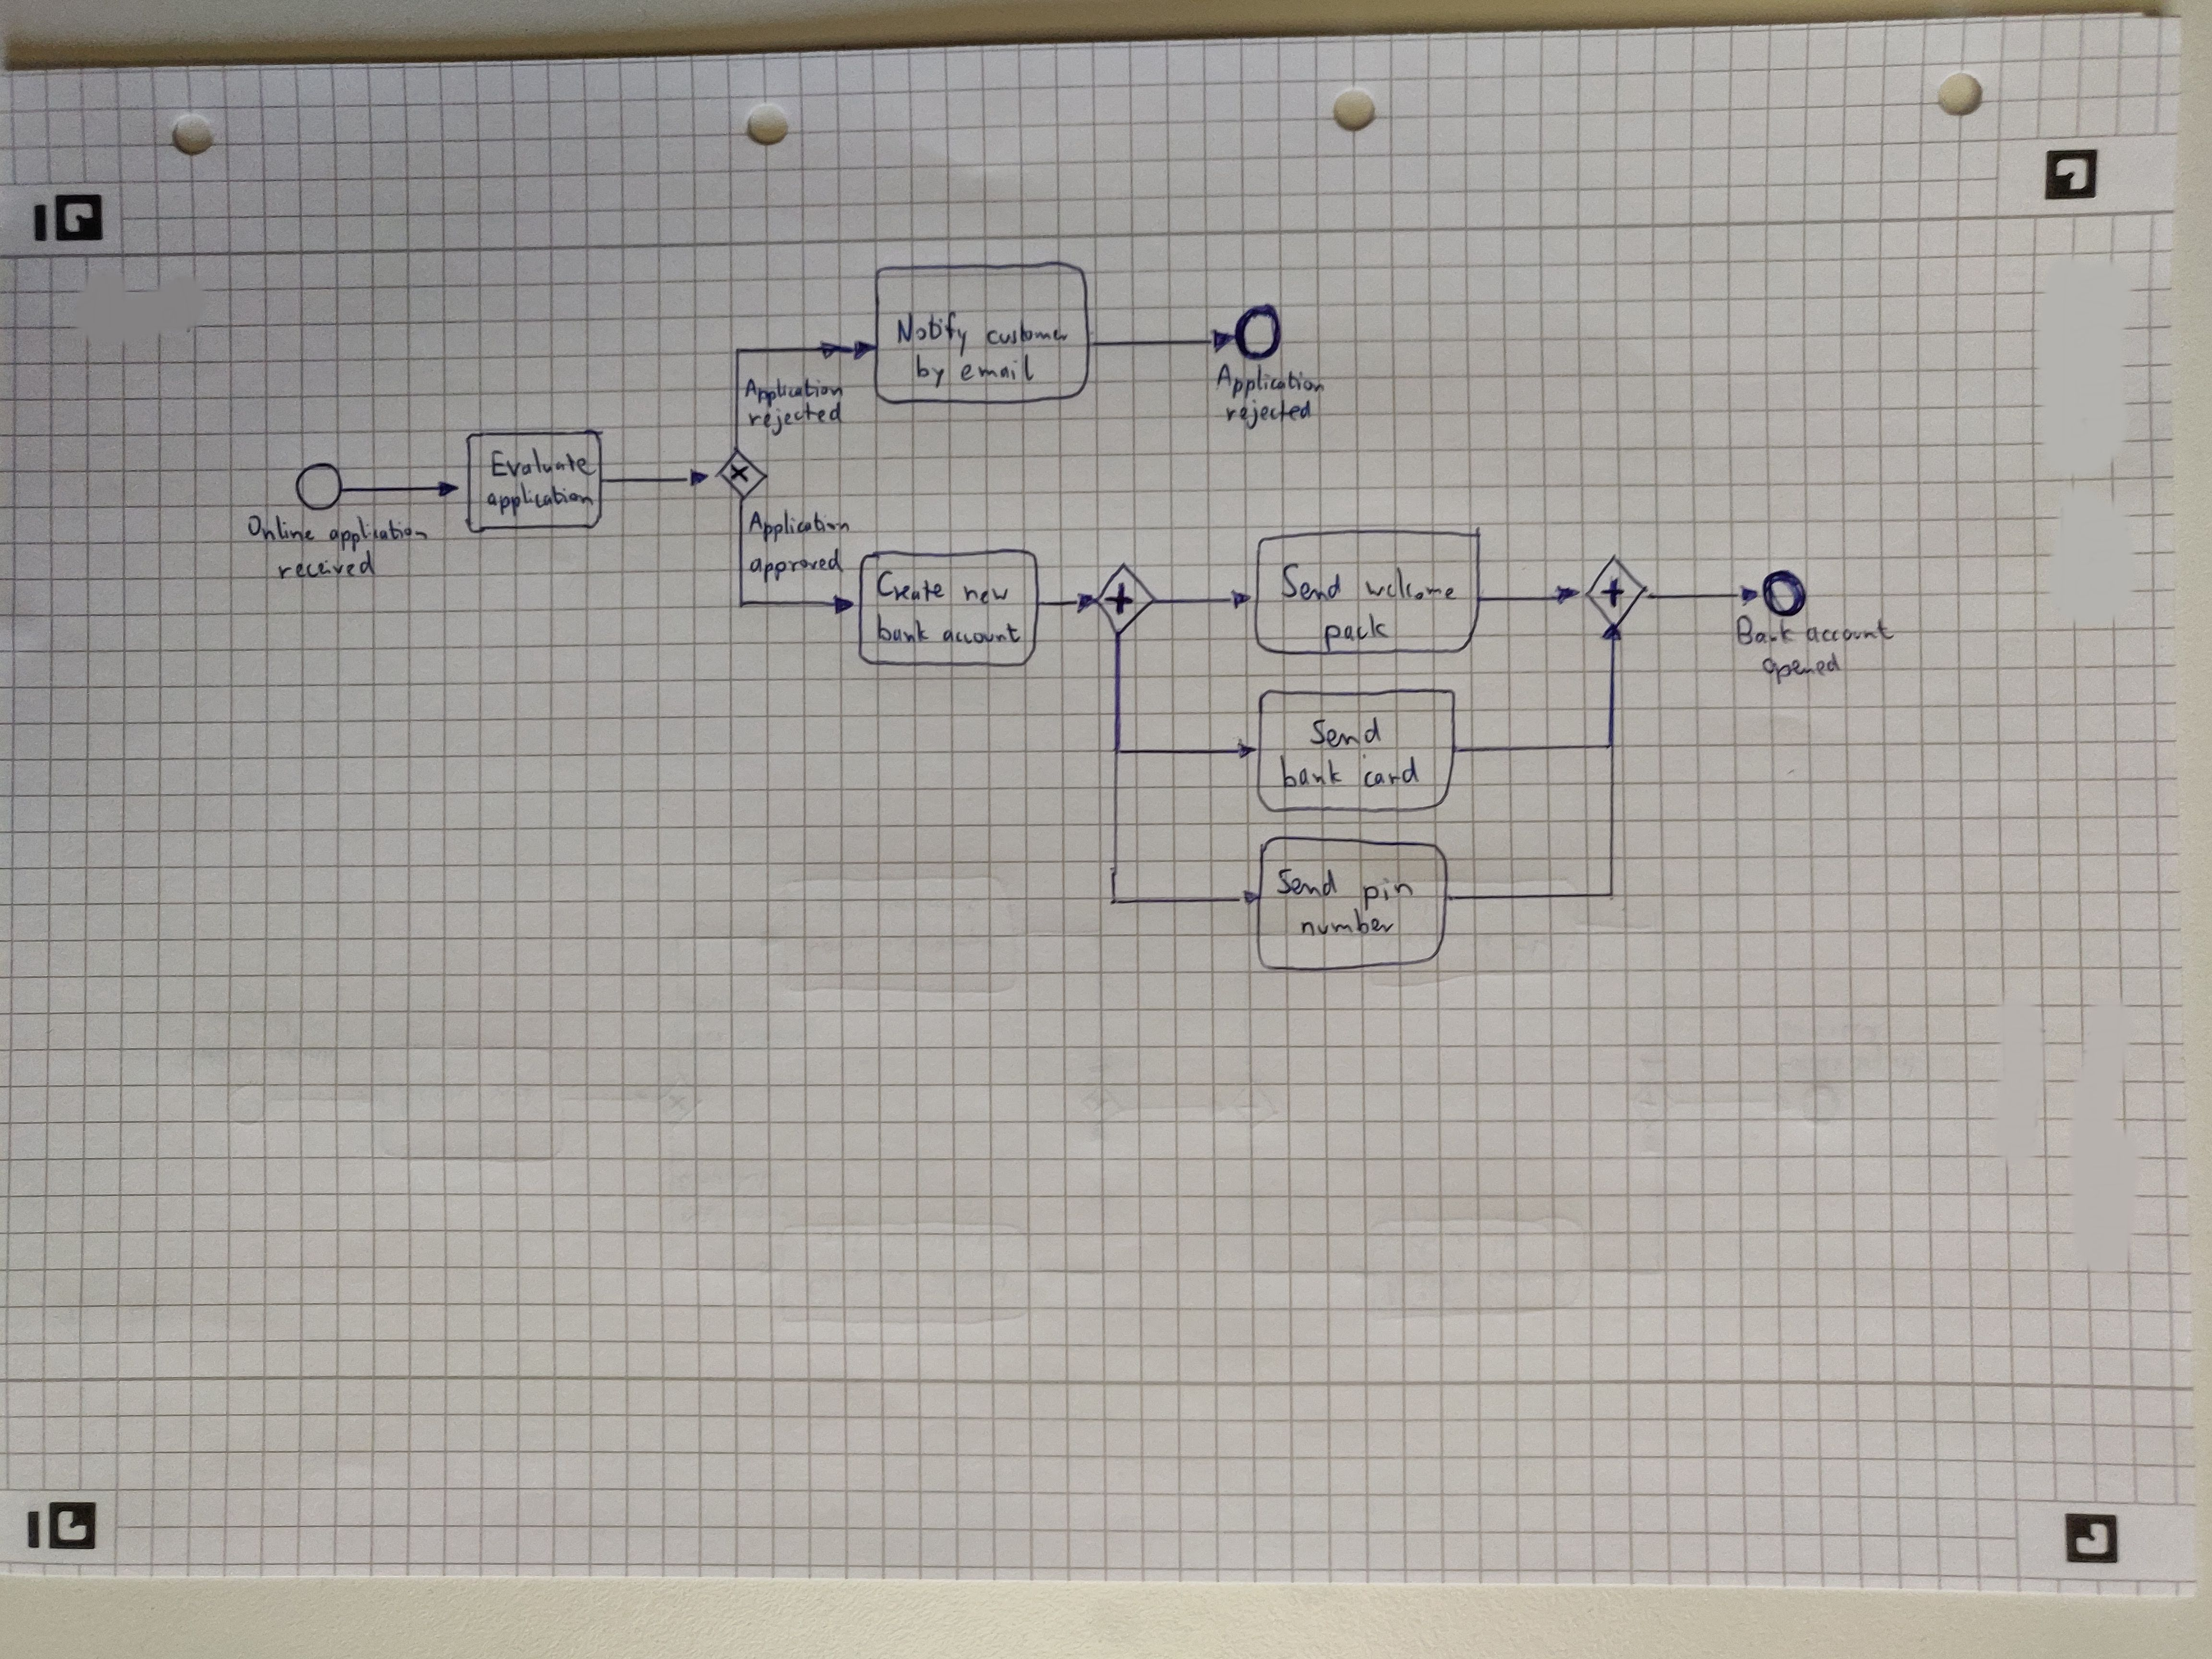Application: (744, 505, 853, 547), (1214, 364, 1325, 401), (742, 376, 845, 408)
Bank: (1726, 615, 1801, 648)
Create: (867, 568, 949, 606)
Evaluate: (489, 446, 597, 479)
Notify: (894, 308, 968, 359)
Online: (246, 512, 317, 544)
Send: (1273, 559, 1355, 605), (1268, 861, 1352, 901)
account: (1799, 613, 1900, 652), (937, 619, 1021, 648)
application: (326, 514, 428, 552), (482, 483, 594, 518)
approved: (745, 544, 850, 587)
bank: (1273, 753, 1352, 793), (874, 615, 932, 648)
by: (911, 354, 951, 389)
card: (1359, 756, 1430, 793)
customer: (982, 315, 1071, 347)
email: (958, 352, 1038, 383)
new: (960, 575, 1012, 610)
number: (1294, 906, 1400, 941)
opened: (1759, 650, 1848, 692)
pack: (1315, 606, 1395, 648)
pin: (1359, 866, 1421, 915)
received: (272, 551, 383, 586)
rejected: (747, 401, 846, 436), (1224, 399, 1315, 430)
send: (1308, 714, 1383, 748)
welcome: (1357, 565, 1465, 606)
